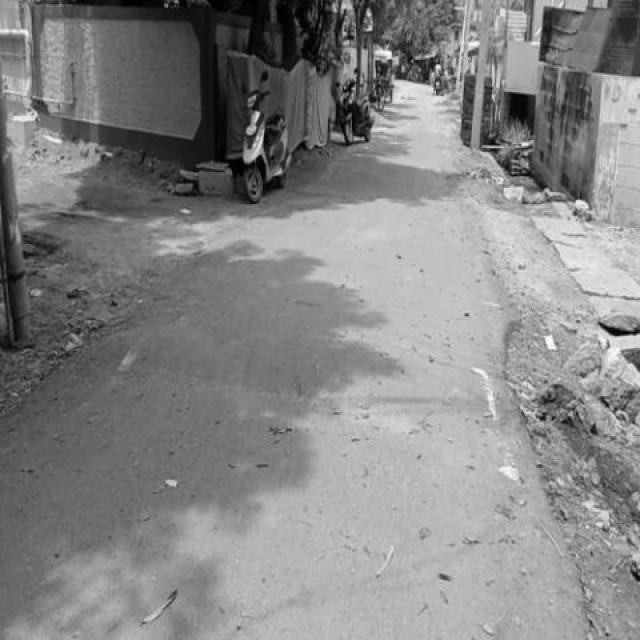Unmarked Bump: (96, 327, 522, 410)
